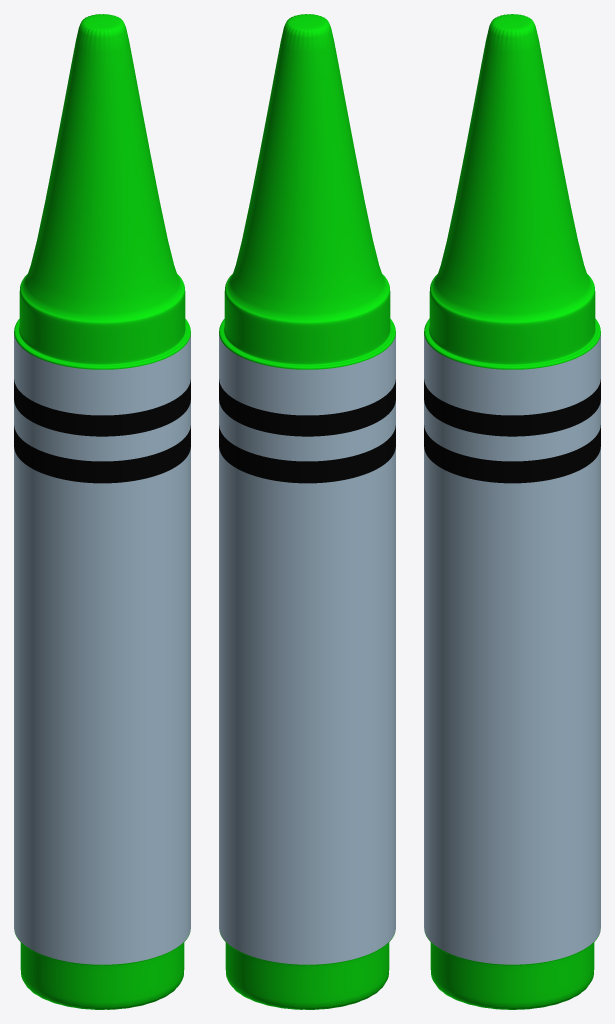
File: crayon 1.fbx
3 views of the same model, side by side, from view 1: azimuth 30°, elevation 25°; view 2: azimuth 150°, elevation 25°; view 3: azimuth 270°, elevation 25° (orthographic).
Visible parts, largest first — view 1: Cylinder; view 2: Cylinder; view 3: Cylinder.
Boxes of the visible parts, x1,y1,x2,y2 form: Cylinder: (14, 14, 190, 1009); Cylinder: (219, 14, 395, 1009); Cylinder: (424, 14, 600, 1009).
Size of the model in its own units: 199 by 1189 by 199.
